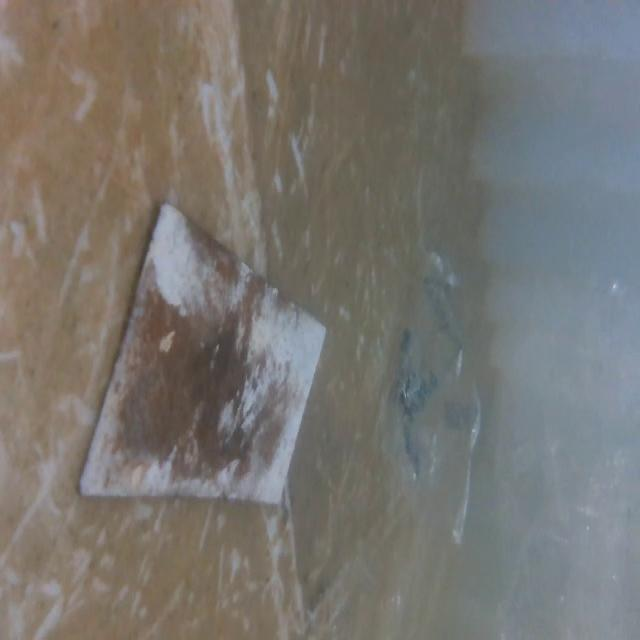plastic bags: (377, 257, 487, 554)
